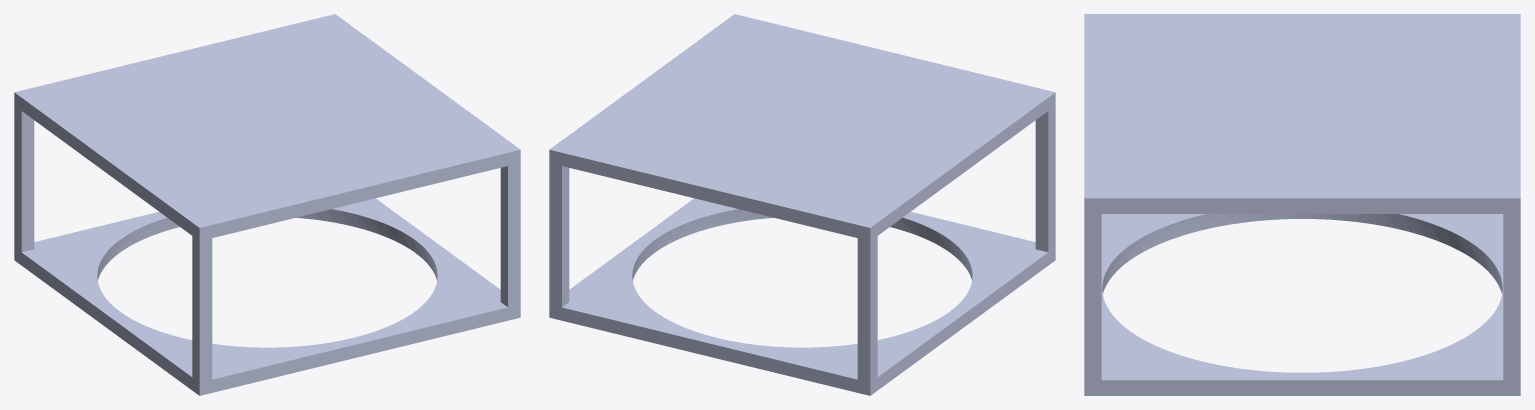
Rendered from CajaLidar.dae.
3 views of the same model, side by side, from view 1: azimuth 30°, elevation 25°; view 2: azimuth 150°, elevation 25°; view 3: azimuth 270°, elevation 25° (orthographic). The views are drawn at different scales.
Visible parts, largest first — view 1: ID2; view 2: ID2; view 3: ID2.
Part boxes in pixels (<box>): ID2: <box>14,14,520,395</box>; ID2: <box>549,14,1055,395</box>; ID2: <box>1084,14,1520,395</box>.
Bounding box in the file's own units: 0.076 × 0.076 × 0.038.
